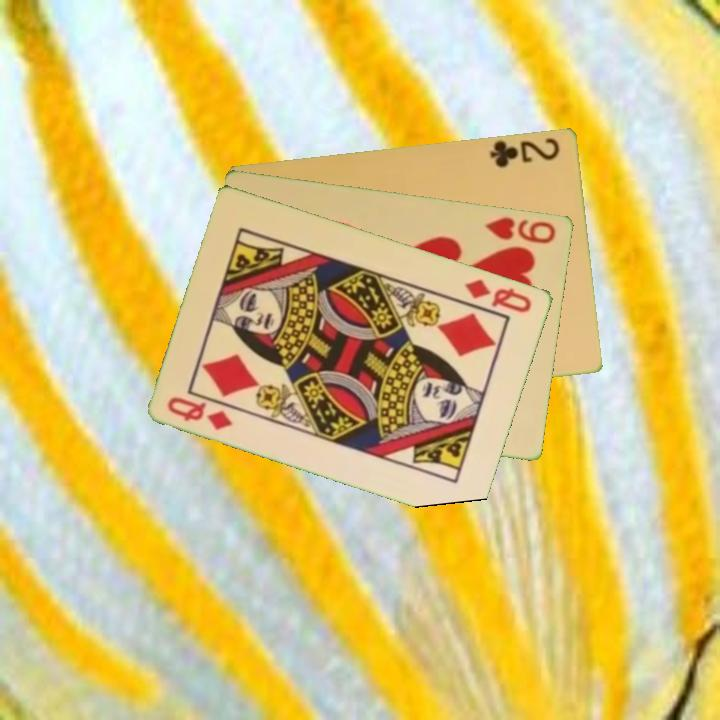2c: (487, 133, 563, 170)
9h: (482, 213, 559, 247)
Qd: (461, 275, 535, 316), (164, 393, 236, 433)
